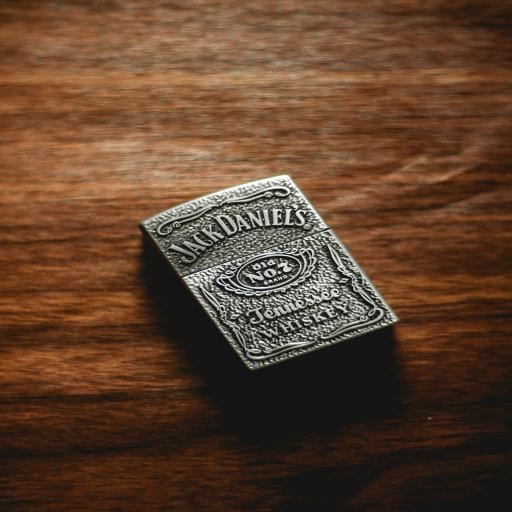lighter: (108, 174, 442, 375)
